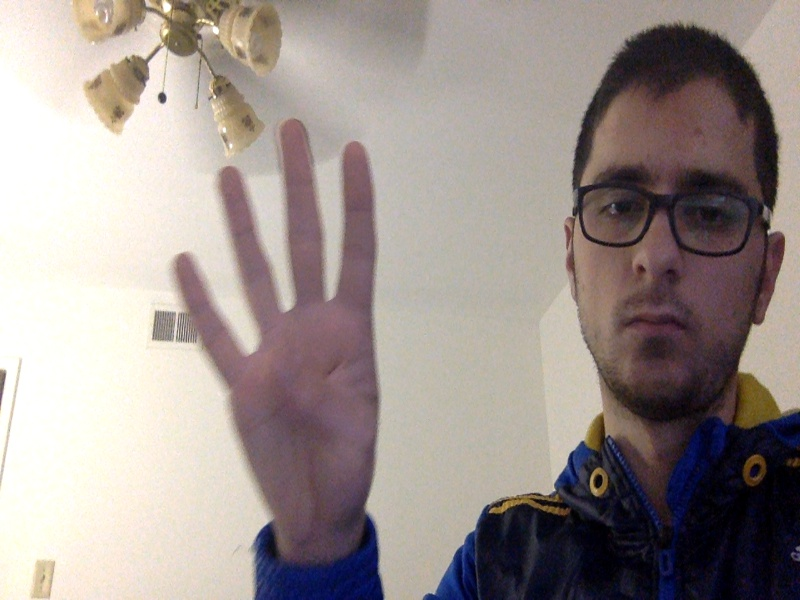4-hand: (171, 115, 396, 539)
